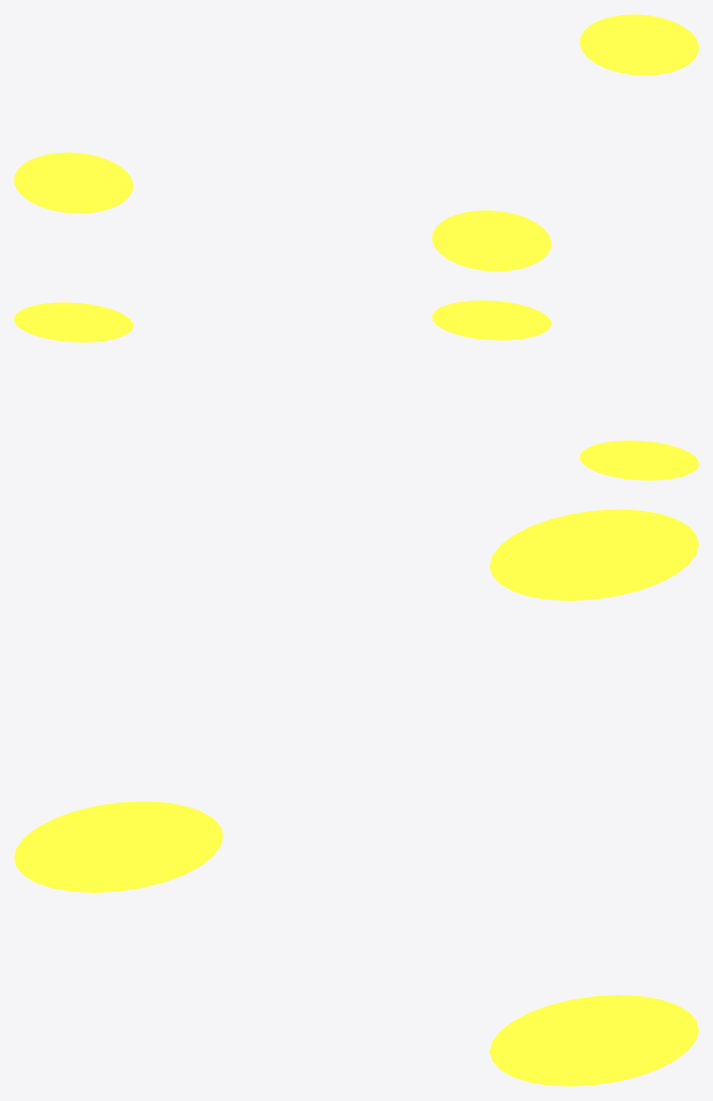
The model's file is pp_light_multiball.glb.
3 renders of one model, top to bottom at view 1: azimuth 30°, elevation 25°; view 2: azimuth 150°, elevation 25°; view 3: azimuth 270°, elevation 25°, orthographic. The views are drawn at different scales.
Visible parts, largest first — view 1: MultiLight (×3); view 2: MultiLight (×3); view 3: MultiLight (×3).
Part boxes in pixels (<box>): MultiLight (×3): <box>14,14,698,271</box>; MultiLight (×3): <box>14,300,698,480</box>; MultiLight (×3): <box>14,509,698,1086</box>.
Bounding box in the file's own units: 0.142 × 0.00815 × 0.0715.
